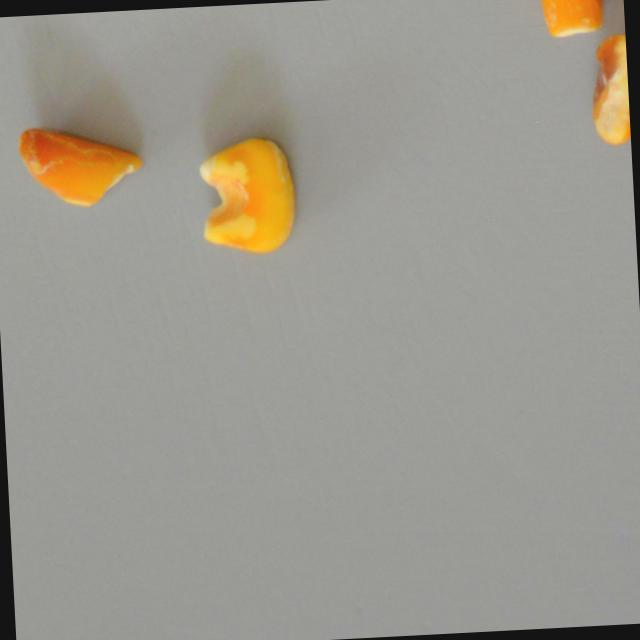dañado: (13, 114, 147, 214), (584, 30, 631, 145), (527, 0, 612, 41)
pelicula: (193, 133, 298, 256)
